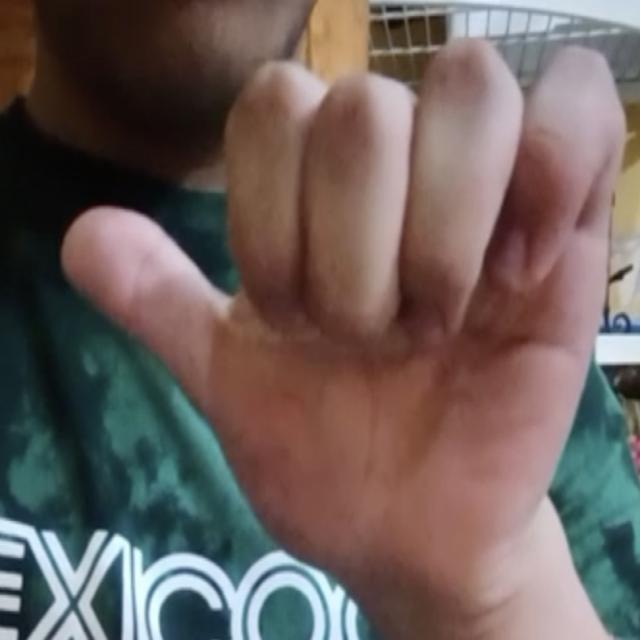A: (48, 21, 639, 640)
